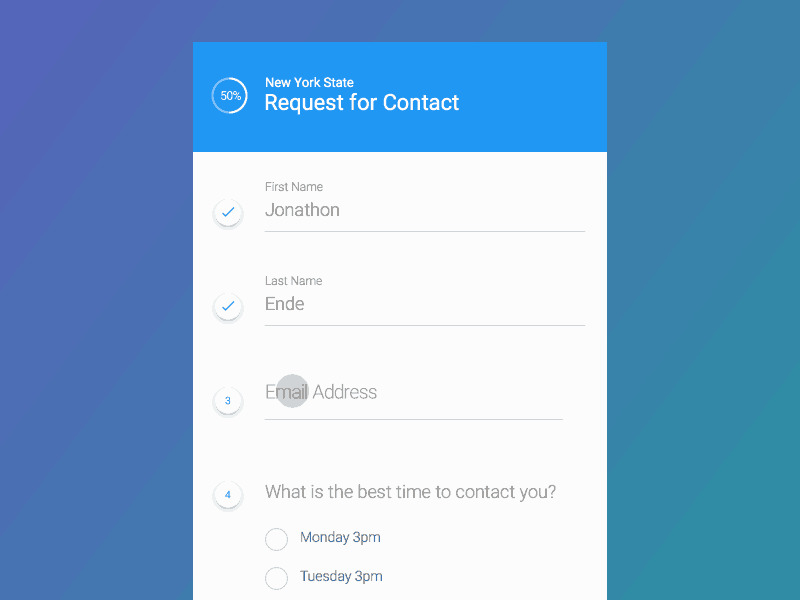_form_: (191, 40, 607, 456), (192, 184, 608, 600)
field: (259, 178, 586, 235), (262, 274, 588, 328), (262, 376, 564, 424)
radio: (264, 525, 290, 553), (264, 566, 289, 592)
radio_with_label: (258, 563, 389, 594), (260, 523, 382, 555)
